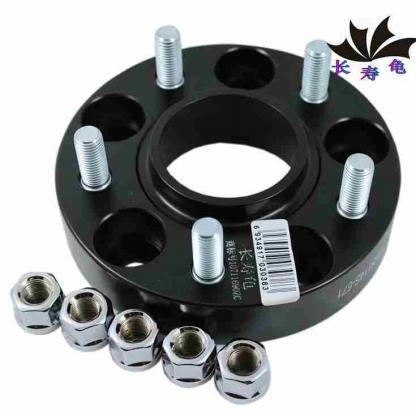FOD: (51, 31, 407, 341), (9, 263, 66, 338), (211, 335, 273, 403), (57, 287, 113, 357), (107, 306, 164, 374), (164, 321, 218, 385)
